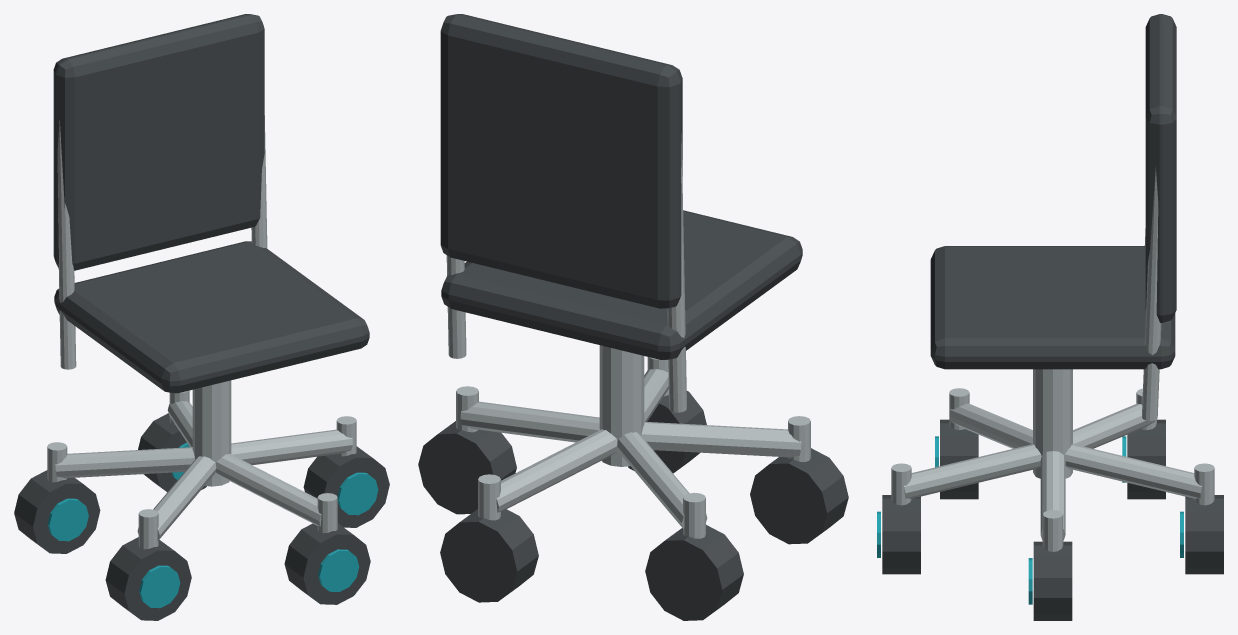
File: clinician_chair_starter.glb
The picture shows the model from 3 angles, left to right: view 1: azimuth 30°, elevation 25°; view 2: azimuth 150°, elevation 25°; view 3: azimuth 270°, elevation 25°; orthographic projection. The views are drawn at different scales.
Visible parts, largest first — view 1: STATIC_rubber.025, STATIC_metal.028, STATIC_teal.030; view 2: STATIC_rubber.025, STATIC_metal.028; view 3: STATIC_rubber.025, STATIC_metal.028, STATIC_teal.030.
Part boxes in pixels (left/top/right/bottom): STATIC_rubber.025: left=14, top=14, right=389, bottom=620; STATIC_metal.028: left=47, top=115, right=356, bottom=549; STATIC_teal.030: left=47, top=442, right=378, bottom=608; STATIC_rubber.025: left=418, top=14, right=848, bottom=620; STATIC_metal.028: left=446, top=134, right=810, bottom=538; STATIC_rubber.025: left=882, top=14, right=1223, bottom=620; STATIC_metal.028: left=891, top=167, right=1214, bottom=551; STATIC_teal.030: left=877, top=436, right=1183, bottom=604.
Bounding box in the file's own units: 0.6465 × 0.95 × 0.6096.
